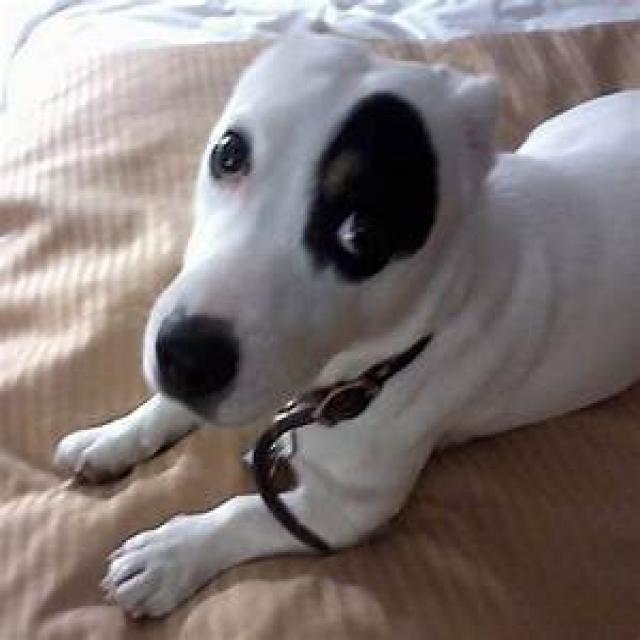dog: (51, 7, 640, 628)
